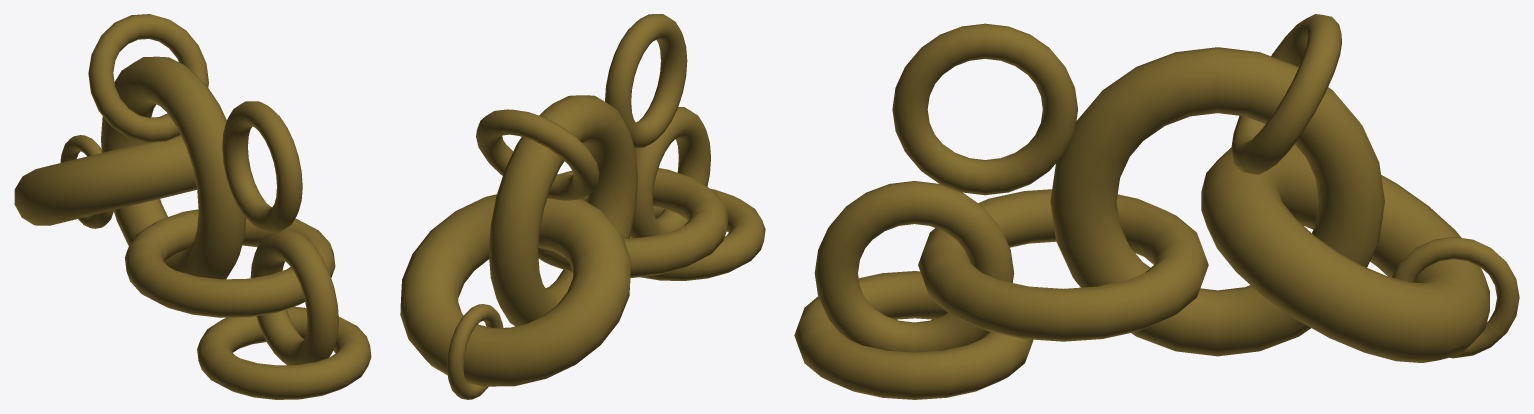
The model's file is OT_084_085_huge_zlitos_deco.glb.
3 views of the same model, side by side, from view 1: azimuth 30°, elevation 25°; view 2: azimuth 150°, elevation 25°; view 3: azimuth 270°, elevation 25° (orthographic). The views are drawn at different scales.
Visible parts, largest first — view 1: zlitos; view 2: zlitos; view 3: zlitos.
Part boxes in pixels (bbox=[...]): zlitos: bbox=[14, 14, 371, 399]; zlitos: bbox=[400, 14, 765, 399]; zlitos: bbox=[794, 14, 1519, 399].
Size of the model in its own units: 0.936 by 1.08 by 2.12.
